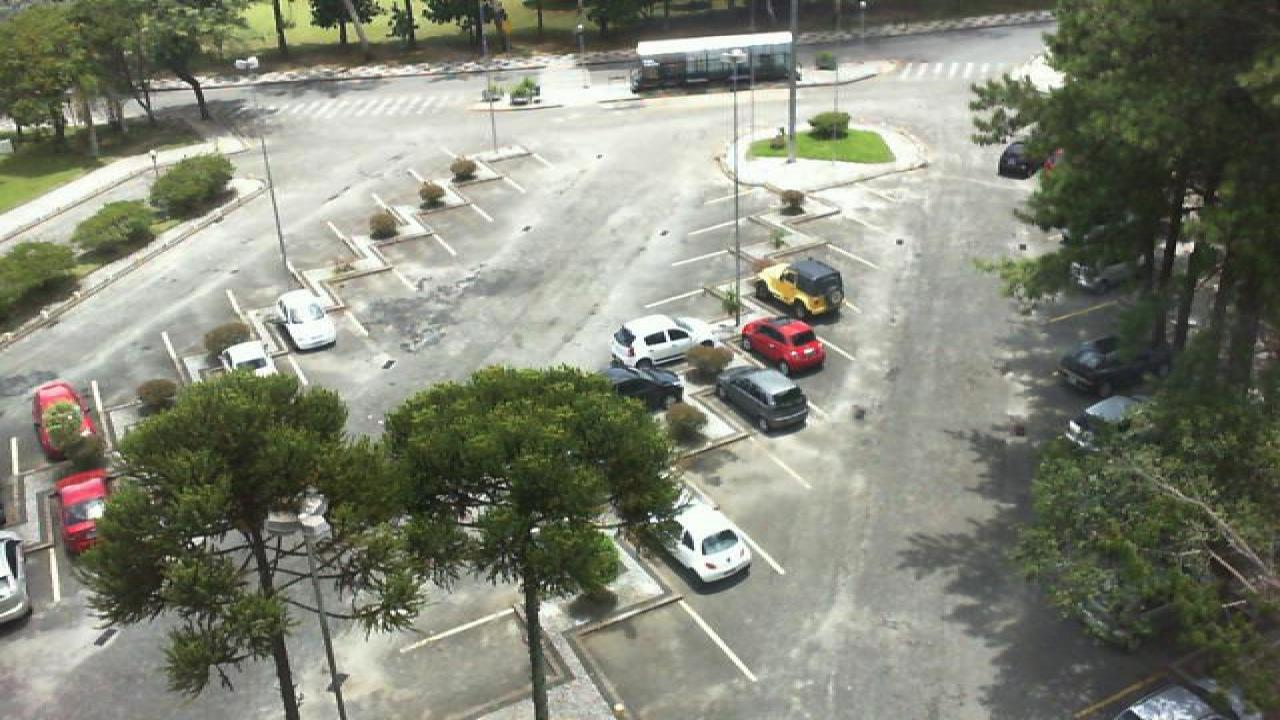Car: (640, 493, 754, 586), (1054, 335, 1162, 399), (714, 366, 810, 433), (610, 314, 720, 370), (756, 258, 848, 322), (1062, 395, 1156, 451), (32, 379, 96, 460), (1106, 683, 1246, 720), (740, 317, 826, 376), (54, 472, 114, 554), (606, 363, 684, 414), (276, 287, 338, 351), (0, 531, 32, 622), (216, 340, 280, 380), (998, 141, 1046, 180)
